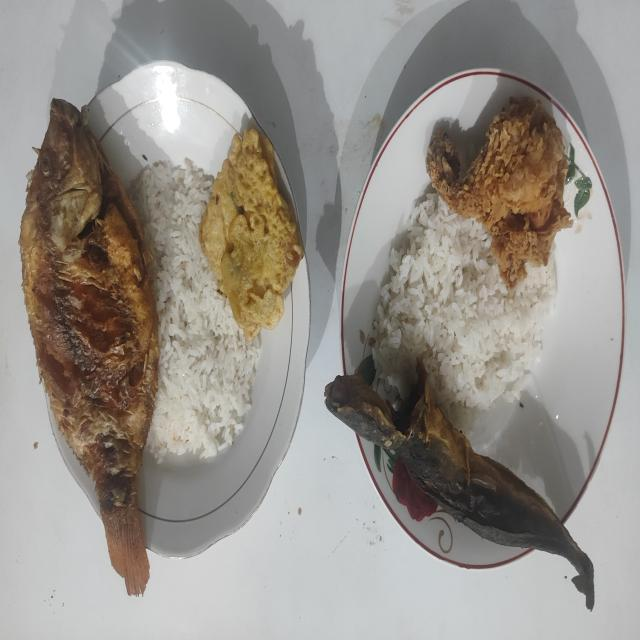ikan_mujair: (19, 98, 159, 594)
nasi_putih: (370, 192, 556, 431), (134, 158, 260, 462)
